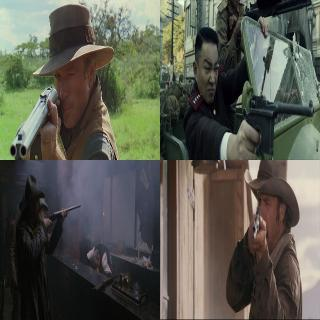gun: (238, 83, 318, 159), (7, 72, 63, 158), (39, 200, 83, 240), (247, 200, 265, 254)
